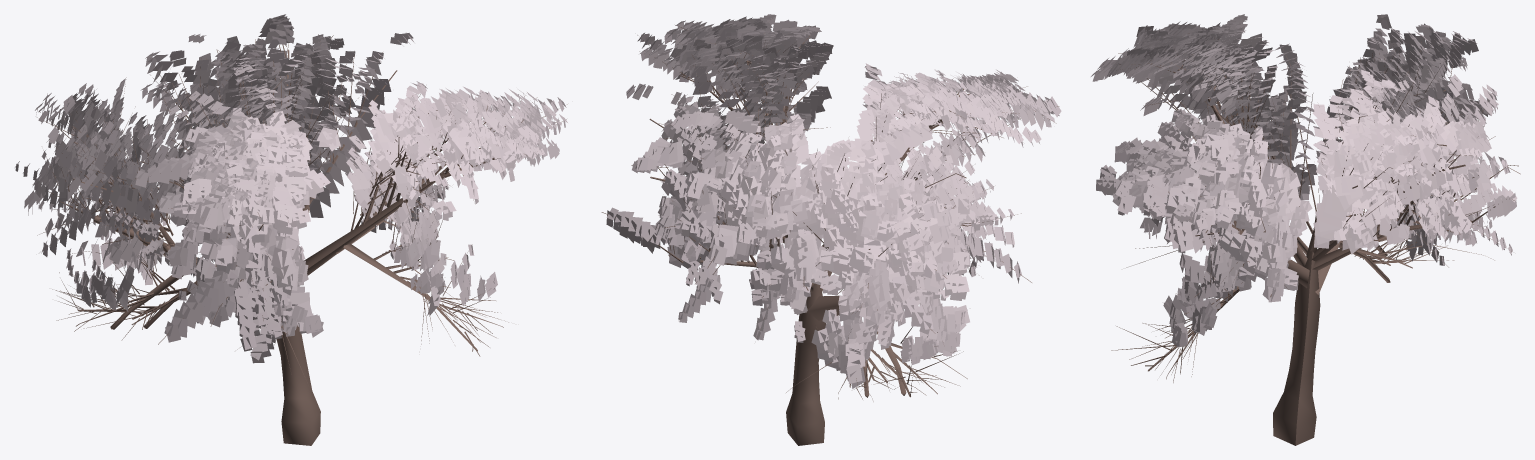
Rendered from sakura-natural-arching.glb.
3 renders of one model, left to right at view 1: azimuth 30°, elevation 25°; view 2: azimuth 150°, elevation 25°; view 3: azimuth 270°, elevation 25°, orthographic.
Bounding box in the file's own units: 12 × 9.2 × 10.14.
